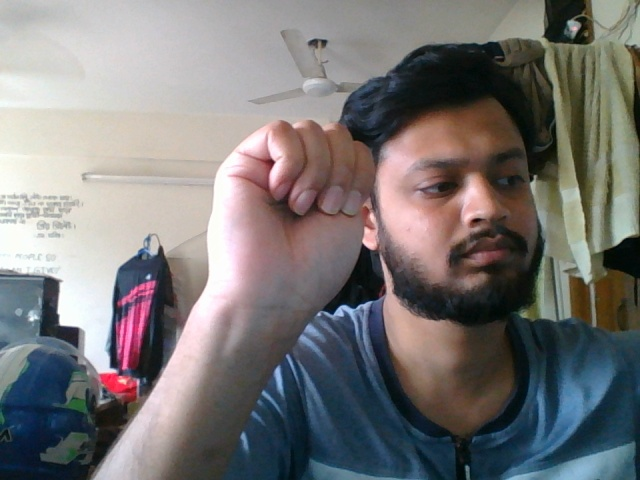to: (205, 106, 380, 359)
